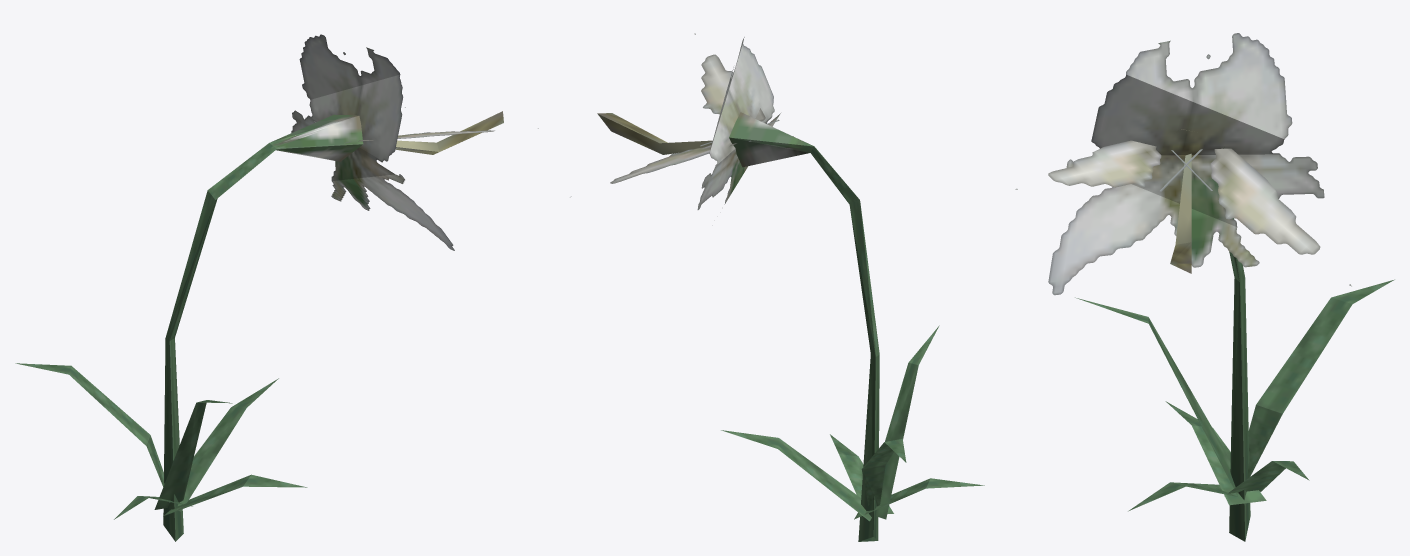
The model's file is C3SNWHITEFLOS.obj.
3 views of the same model, side by side, from view 1: azimuth 30°, elevation 25°; view 2: azimuth 150°, elevation 25°; view 3: azimuth 270°, elevation 25° (orthographic). The views are drawn at different scales.
Visible parts, largest first — view 1: Node 0; view 2: Node 0; view 3: Node 0.
Part boxes in pixels (left/top/right/bottom): Node 0: left=15, top=34, right=538, bottom=541; Node 0: left=570, top=33, right=984, bottom=541; Node 0: left=1015, top=33, right=1394, bottom=541.
Bounding box in the file's own units: 1.11 × 1.23 × 0.71.
Materials: 1 (1 with a texture image).
